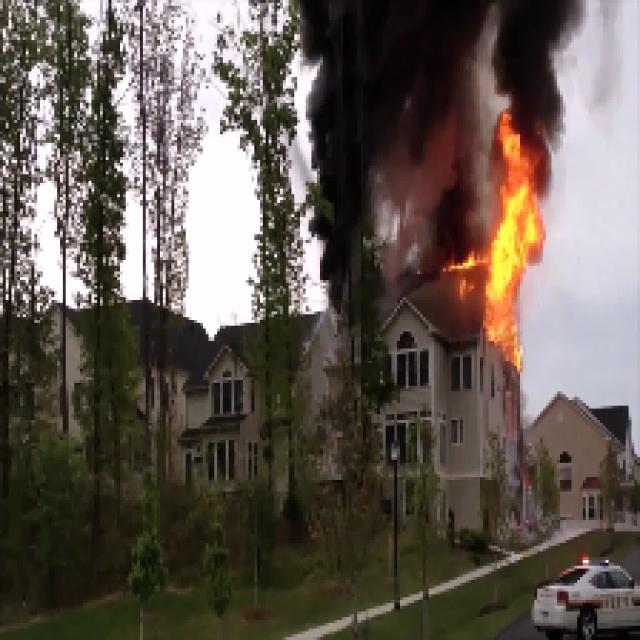fire: (483, 138, 537, 346)
smoke: (334, 2, 479, 257), (497, 3, 559, 124)
